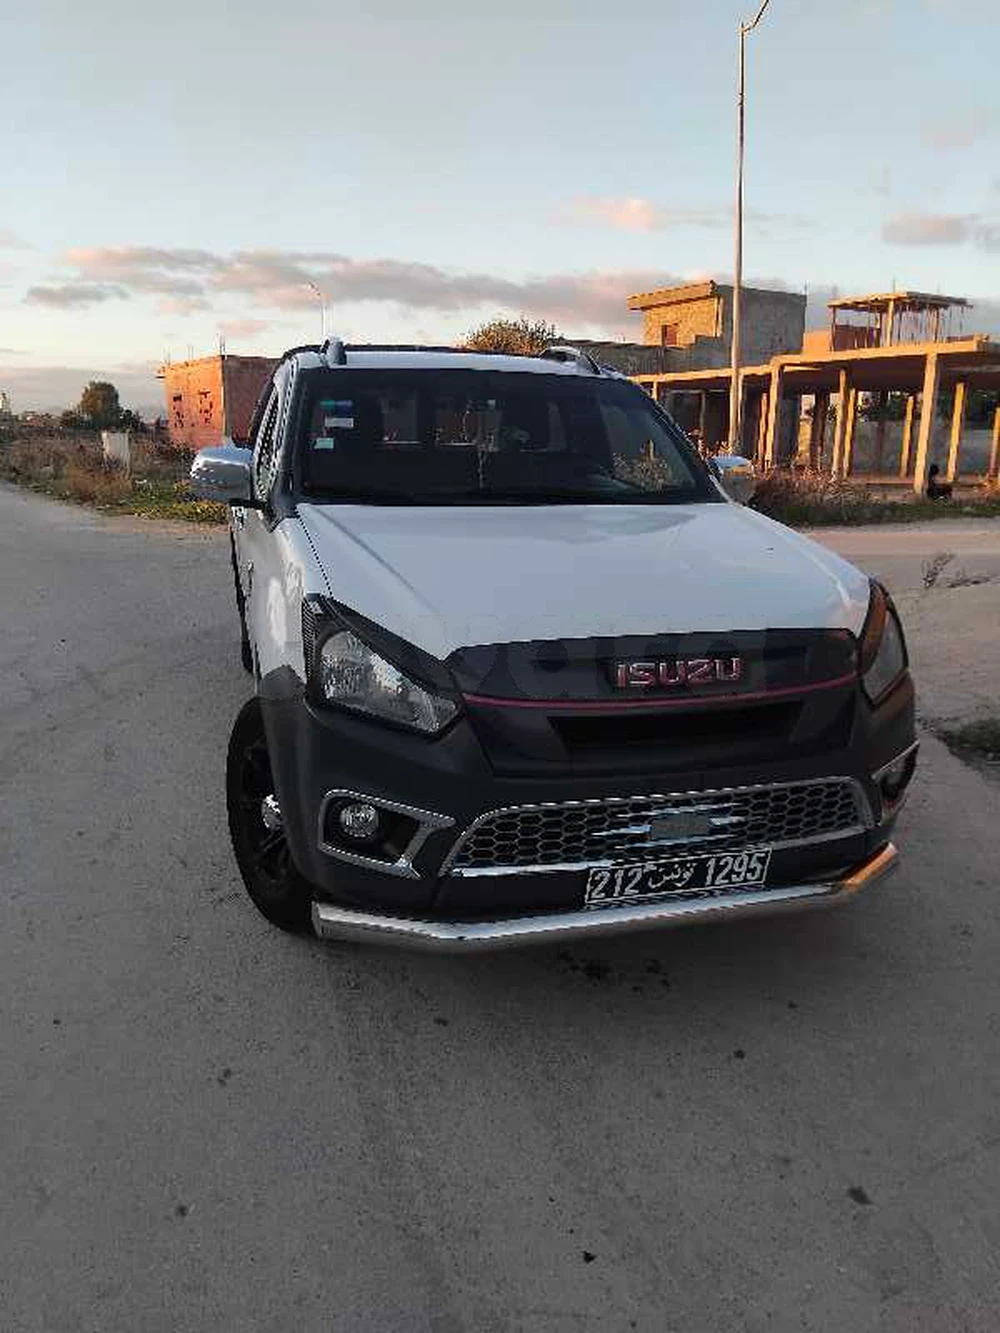isuzu: (201, 330, 915, 979)
